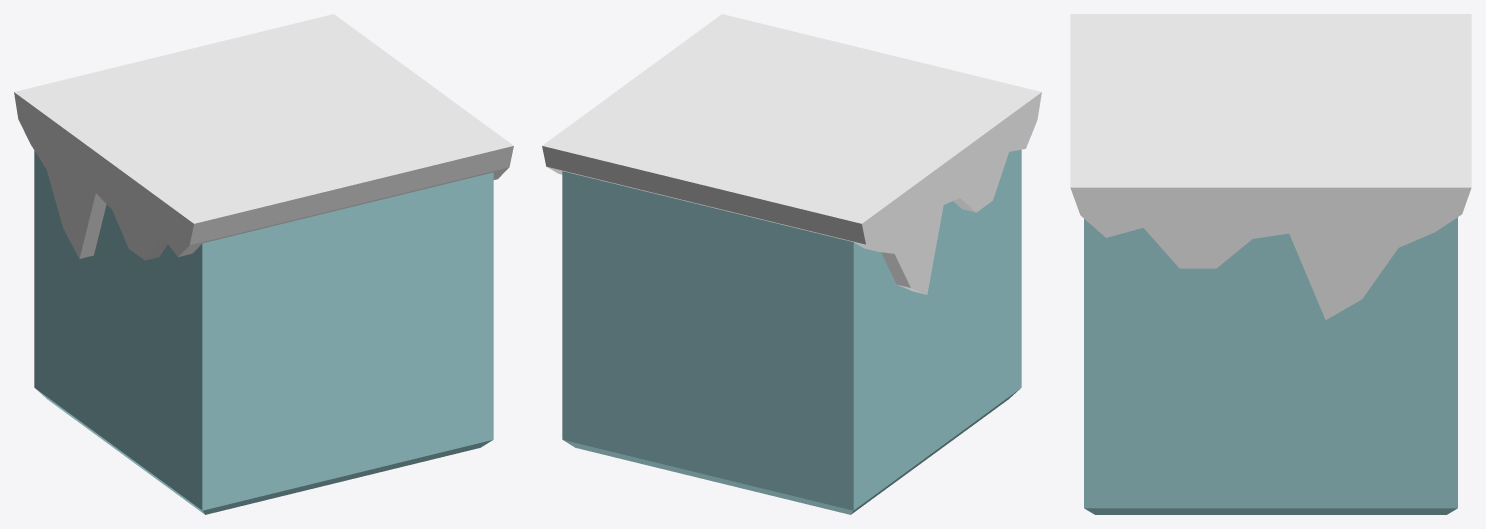
File: BasicCube.fbx
3 views of the same model, side by side, from view 1: azimuth 30°, elevation 25°; view 2: azimuth 150°, elevation 25°; view 3: azimuth 270°, elevation 25° (orthographic). The views are drawn at different scales.
Visible parts, largest first — view 1: Cube; view 2: Cube; view 3: Cube.
Boxes of the visible parts, x1,y1,x2,y2 form: Cube: (14, 14, 513, 514); Cube: (542, 14, 1041, 514); Cube: (1070, 14, 1471, 514).
Size of the model in its own units: 220 by 200 by 214.
